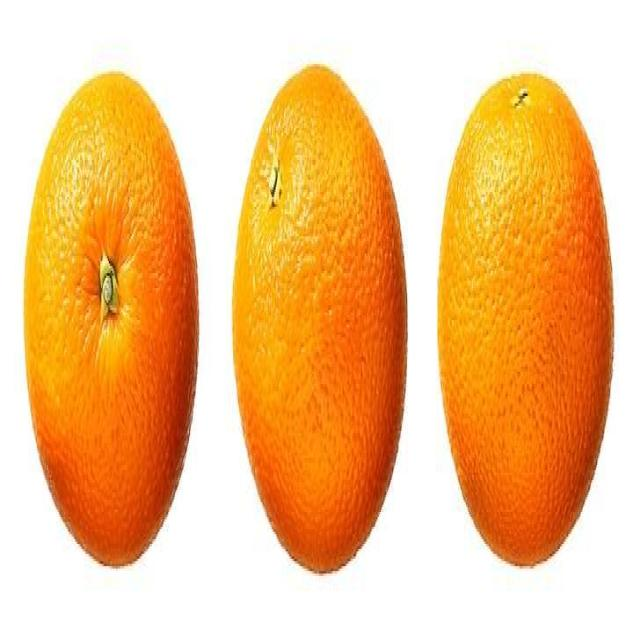orange: (231, 58, 408, 575), (435, 67, 615, 571), (24, 70, 200, 568)
